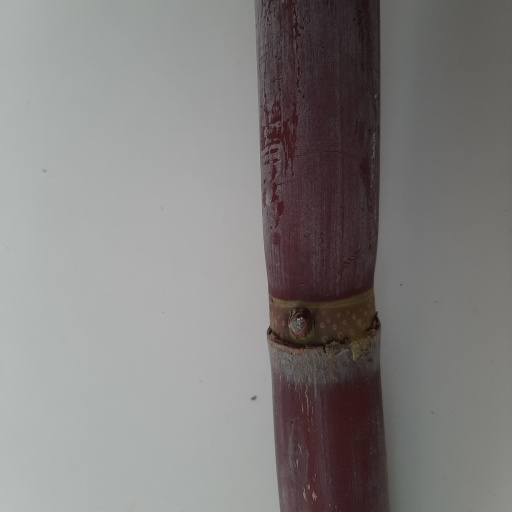Bud: (287, 307, 315, 345)
